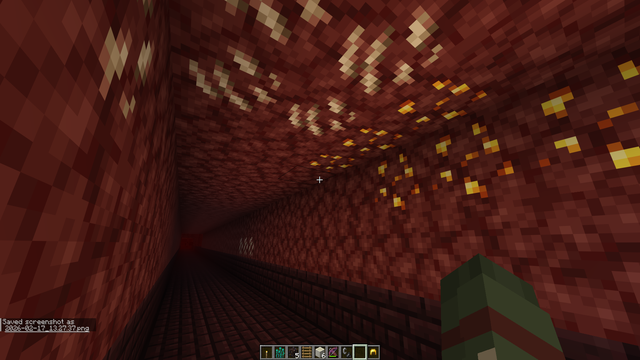nethergold: (307, 50, 640, 214)
quartz: (82, 2, 456, 140), (236, 235, 257, 258)
